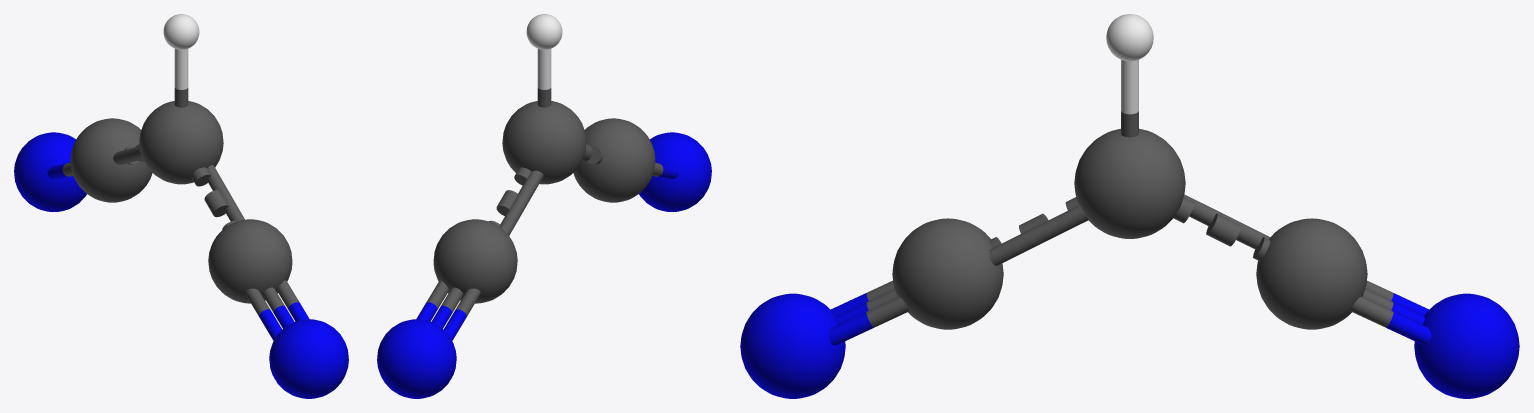
Rendered from dicyanomethanide.glb.
3 renders of one model, left to right at view 1: azimuth 30°, elevation 25°; view 2: azimuth 150°, elevation 25°; view 3: azimuth 270°, elevation 25°, orthographic. The views are drawn at different scales.
Visible parts, largest first — view 1: C01, C05, N06, C03, N04, C05#N06.001, C01%C05, H02, C01-H02, C01%C03, C03#N04.001; view 2: C03, C01, N04, C05, N06, C03#N04.001, C01%C03, H02, C01-H02, C05#N06.001, C01%C05; view 3: C03, C01, C05, N04, N06, C03#N04.001, C05#N06.001, C01%C05, C01%C03, H02, C01-H02.
Part boxes in pixels (x1,y1,x2,y2): C01: (139, 101, 223, 184); C05: (208, 219, 292, 303); N06: (269, 319, 348, 398); C03: (70, 118, 152, 202); N04: (14, 132, 86, 211); C05#N06.001: (245, 280, 309, 340); C01%C05: (191, 165, 244, 229); H02: (163, 14, 199, 49); C01-H02: (174, 49, 188, 107); C01%C03: (113, 144, 143, 164); C03#N04.001: (47, 162, 73, 179); C03: (433, 219, 517, 303); C01: (502, 101, 586, 184); N04: (377, 319, 456, 398); C05: (573, 118, 655, 202); N06: (639, 132, 711, 211); C03#N04.001: (416, 280, 480, 340); C01%C03: (489, 167, 543, 235); H02: (526, 14, 562, 49); C01-H02: (537, 49, 551, 107); C05#N06.001: (652, 162, 678, 179); C01%C05: (582, 144, 603, 164); C03: (1256, 218, 1367, 329); C01: (1074, 128, 1185, 238); C05: (892, 218, 1003, 329); N04: (1414, 293, 1519, 398); N06: (740, 293, 845, 398); C03#N04.001: (1350, 280, 1431, 345); C05#N06.001: (828, 280, 909, 345); C01%C05: (989, 197, 1088, 265); C01%C03: (1173, 194, 1270, 261); H02: (1106, 14, 1153, 61); C01-H02: (1121, 60, 1138, 137).
Size of the model in its own units: 0.75 by 2.81 by 5.25.
